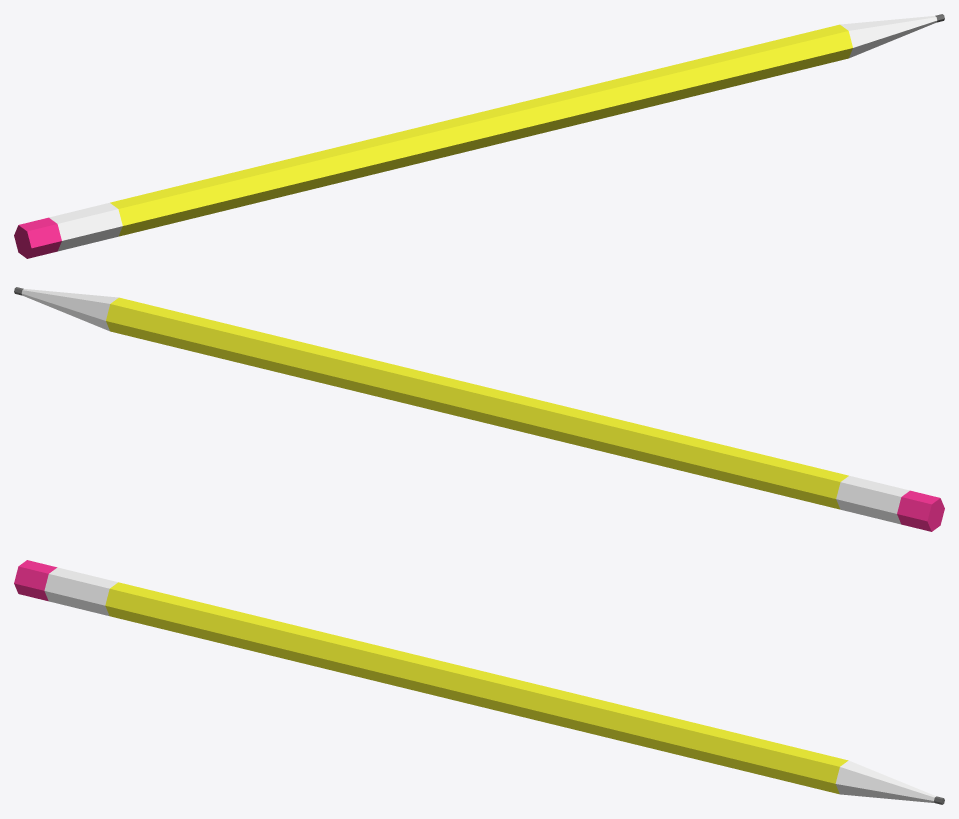
3 renders of one model, top to bottom at view 1: azimuth 30°, elevation 25°; view 2: azimuth 150°, elevation 25°; view 3: azimuth 330°, elevation 25°, orthographic.
Visible parts, largest first — view 1: pencil; view 2: pencil; view 3: pencil.
Part boxes in pixels (left/top/right/bottom): pencil: left=14, top=14, right=944, bottom=258; pencil: left=14, top=287, right=944, bottom=531; pencil: left=14, top=560, right=944, bottom=804.
Bounding box in the file's own units: 7.56 × 0.2165 × 0.25.
